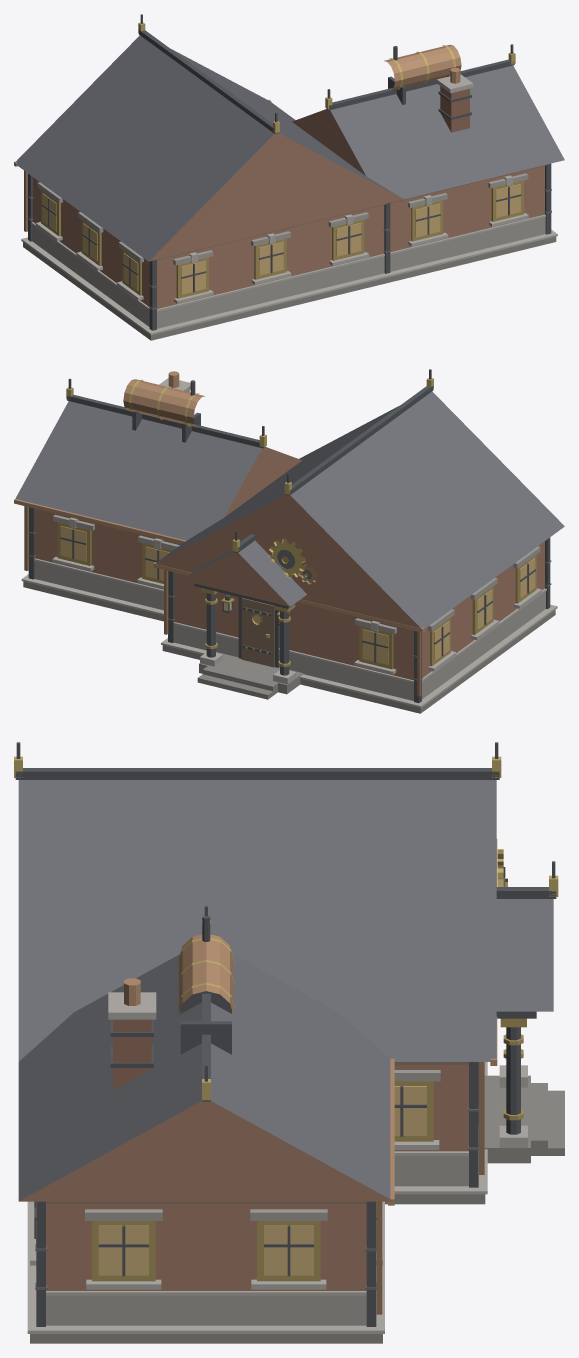
Rendered from casa-n03-23b44ddc.glb.
3 renders of one model, top to bottom at view 1: azimuth 30°, elevation 25°; view 2: azimuth 150°, elevation 25°; view 3: azimuth 270°, elevation 25°, orthographic. The views are drawn at different scales.
Parts seen in each view (by area): view 1: casa_n03, casa_n03_glow; view 2: casa_n03, casa_n03_glow; view 3: casa_n03, casa_n03_glow.
Boxes of the visible parts, x1,y1,x2,y2 form: casa_n03: (14, 14, 564, 340); casa_n03_glow: (42, 184, 520, 294); casa_n03: (14, 369, 564, 713); casa_n03_glow: (60, 526, 535, 664); casa_n03: (14, 742, 564, 1343); casa_n03_glow: (36, 1086, 426, 1275).
Bounding box in the file's own units: 15.08 × 6.89 × 9.68.
